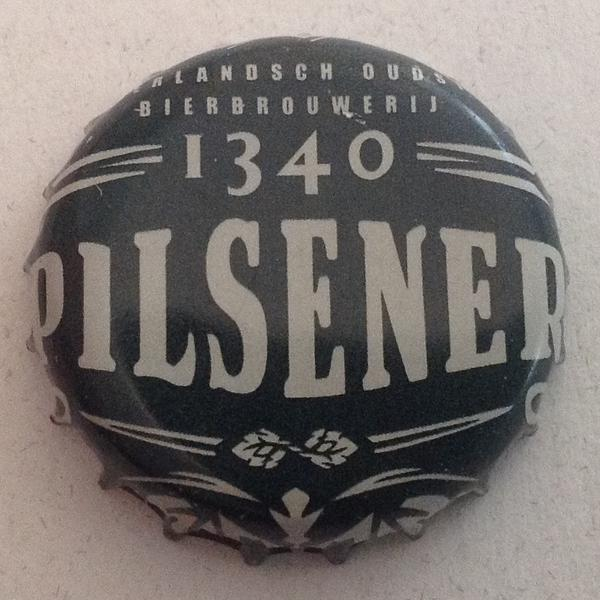brand: (21, 28, 579, 572)
